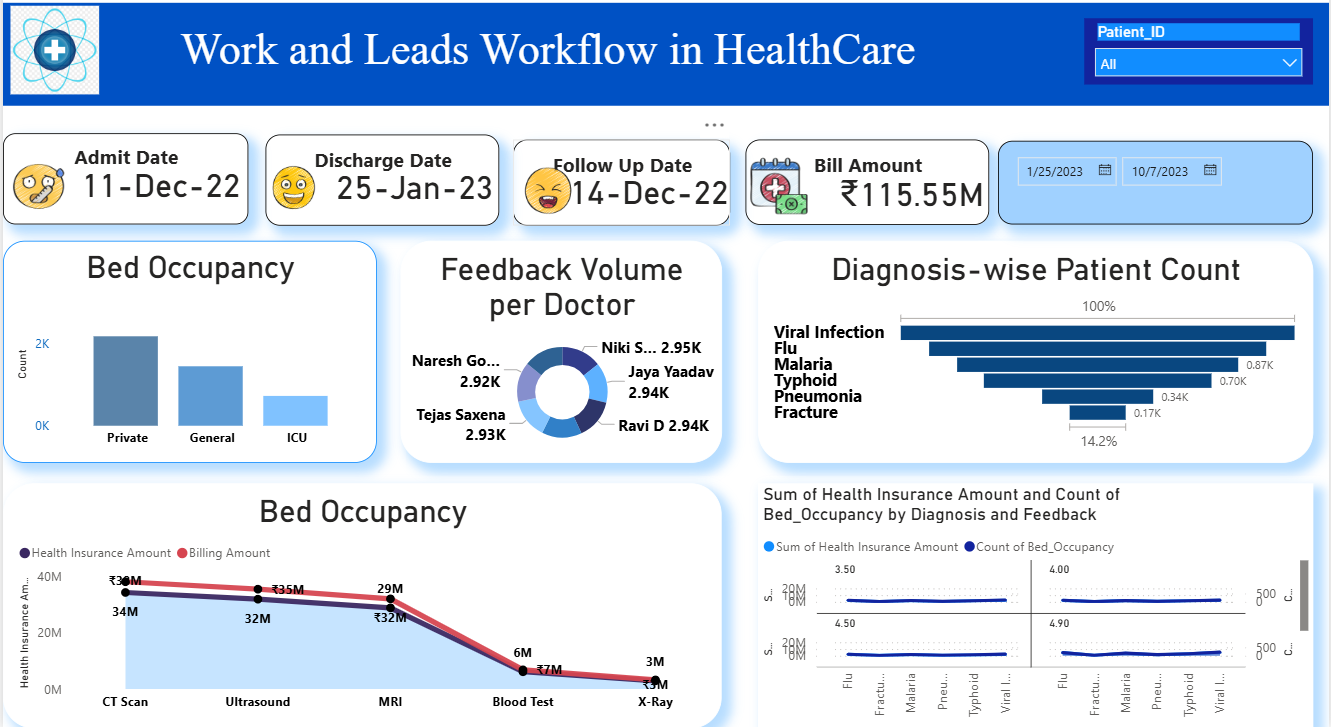

The dashboard page shown, as its layout file describes it:
{"tool":"powerbi","page":{"name":"Page 2","canvas":[1280,720],"ordinal":0},"visuals":[{"type":"textbox","box":[100.1,35,851.7,78.4],"z":0},{"type":"image","box":[2636.7,100,623.3,150],"z":1000},{"type":"slicer","fields":{"Values":["Sheet1.Patient_ID"]},"box":[2400,373.3,793.3,420],"z":2000},{"type":"card","fields":{"Values":["Sheet1.Admit_Date"]},"box":[316.1,174.9,162.9,42.2],"z":3000},{"type":"card","fields":{"Values":["Sheet1.Discharge_Date"]},"box":[68.8,172.5,167.7,44.6],"z":4000},{"type":"card","fields":{"Values":["Sheet1.Followup Date"]},"box":[539.3,179.8,168.9,42.2],"z":5000},{"type":"textbox","box":[0,146,236.5,88.1],"z":6000},{"type":"textbox","box":[253.4,147.2,225.6,88.1],"z":7000},{"type":"textbox","box":[492.2,152,209.9,83.2],"z":8000},{"type":"textbox","box":[716.6,152,235.3,82],"z":9000},{"type":"card","fields":{"Values":["Sheet1.Billing Amount"]},"box":[793.8,181,166.5,43.4],"z":10000},{"type":"image","box":[0,167.7,68.8,59.1],"z":11000},{"type":"image","box":[253.4,172.5,54.3,51.9],"z":12000},{"type":"image","box":[492.2,173.7,67.6,55.5],"z":13000},{"type":"image","box":[716.6,160.5,65.1,72.4],"z":14000},{"type":"columnChart","title":"Bed Occupancy","fields":{"Category":["Sheet1.Bed_Occupancy"],"Y":["Sheet1.Bed_Occupancy"]},"box":[0,249.7,360.7,214.7],"z":15000},{"type":"donutChart","title":"Feedback Volume per Doctor","fields":{"Category":["Sheet1.Doctor"],"Y":["Sheet1.Feedback"]},"box":[383.6,249.7,310.1,214.7],"z":16000},{"type":"funnel","title":"Diagnosis-wise Patient Count","fields":{"Category":["Sheet1.Diagnosis"],"Y":["Sheet1.Diagnosis"]},"box":[728.7,249.7,535.7,214.7],"z":17000},{"type":"lineChart","title":"Bed Occupancy","fields":{"Y":["Sheet1.Health Insurance Amount","Sheet1.Billing Amount"],"Category":["Sheet1.Test"]},"box":[0,483.8,693.7,236.5],"z":18000},{"type":"slicer","fields":{"Values":["Sheet1.Admit_Date"]},"box":[1284.3,201.2,360.6,68.9],"z":19000},{"type":"slicer","fields":{"Values":["Sheet1.Patient_ID"]},"box":[1317.8,80.9,292.1,82.7],"z":20000},{"type":"textbox","box":[1365.7,145.7,151.4,37.1],"z":21000},{"type":"image","box":[0,18.1,100.1,95.3],"z":22000},{"type":"slicer","fields":{"Values":["Sheet1.Patient_ID"]},"box":[1043.6,35,220.8,63.9],"z":22001},{"type":"slicer","fields":{"Values":["Sheet1.Admit_Date"]},"box":[960.3,153.2,304,80.8],"z":22002},{"type":"areaChart","fields":{"Y":["Sheet1.Health Insurance Amount"],"Category":["Sheet1.Diagnosis"],"Y2":["Sheet1.Bed_Occupancy"],"Rows":["Sheet1.Feedback"]},"box":[729,484,536,236],"z":22003}]}

Visuals, with their boxes in screenshot pixels (x1, y1, x2, y2), scaled from the page's 1280x720 canvas onto the 1331x727 screenshot:
textbox: [left=104, top=35, right=990, bottom=115]
card - Sheet1.Admit_Date: [left=329, top=177, right=498, bottom=219]
card - Sheet1.Discharge_Date: [left=72, top=174, right=246, bottom=219]
card - Sheet1.Followup Date: [left=561, top=182, right=736, bottom=224]
textbox: [left=0, top=147, right=246, bottom=236]
textbox: [left=263, top=149, right=498, bottom=238]
textbox: [left=512, top=153, right=730, bottom=237]
textbox: [left=745, top=153, right=990, bottom=236]
card - Sheet1.Billing Amount: [left=825, top=183, right=999, bottom=227]
image: [left=0, top=169, right=72, bottom=229]
image: [left=263, top=174, right=320, bottom=227]
image: [left=512, top=175, right=582, bottom=231]
image: [left=745, top=162, right=813, bottom=235]
"Bed Occupancy" columnChart: [left=0, top=252, right=375, bottom=469]
"Feedback Volume per Doctor" donutChart: [left=399, top=252, right=721, bottom=469]
"Diagnosis-wise Patient Count" funnel: [left=758, top=252, right=1315, bottom=469]
"Bed Occupancy" lineChart: [left=0, top=489, right=721, bottom=726]
image: [left=0, top=18, right=104, bottom=115]
slicer - Sheet1.Patient_ID: [left=1085, top=35, right=1315, bottom=100]
slicer - Sheet1.Admit_Date: [left=999, top=155, right=1315, bottom=236]
areaChart - Sheet1.Health Insurance Amount x Sheet1.Diagnosis: [left=758, top=489, right=1315, bottom=726]
